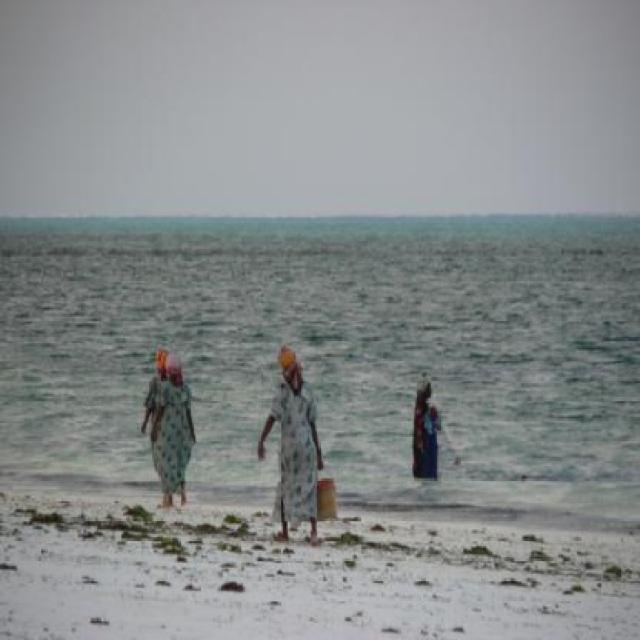Person: (259, 342, 324, 535), (150, 349, 196, 505), (140, 350, 172, 504), (412, 372, 440, 479)
